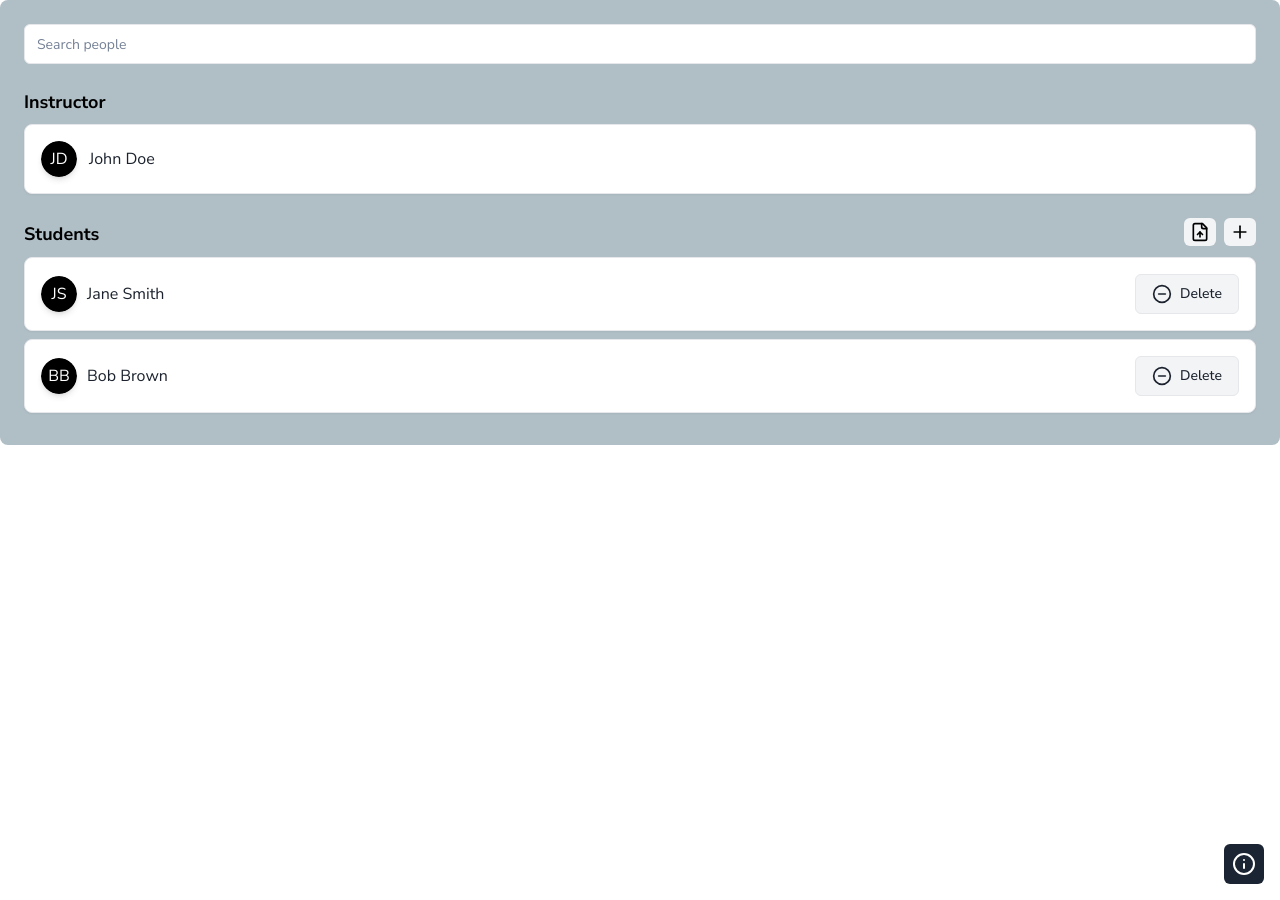
Test case: People component › removes a student from the class
Expected: the text "Jane Smith" is shown, [87,282,164,306]
Click the button with test id "remove-student-button-3" at (1187, 294), box [1135,274,1239,314]
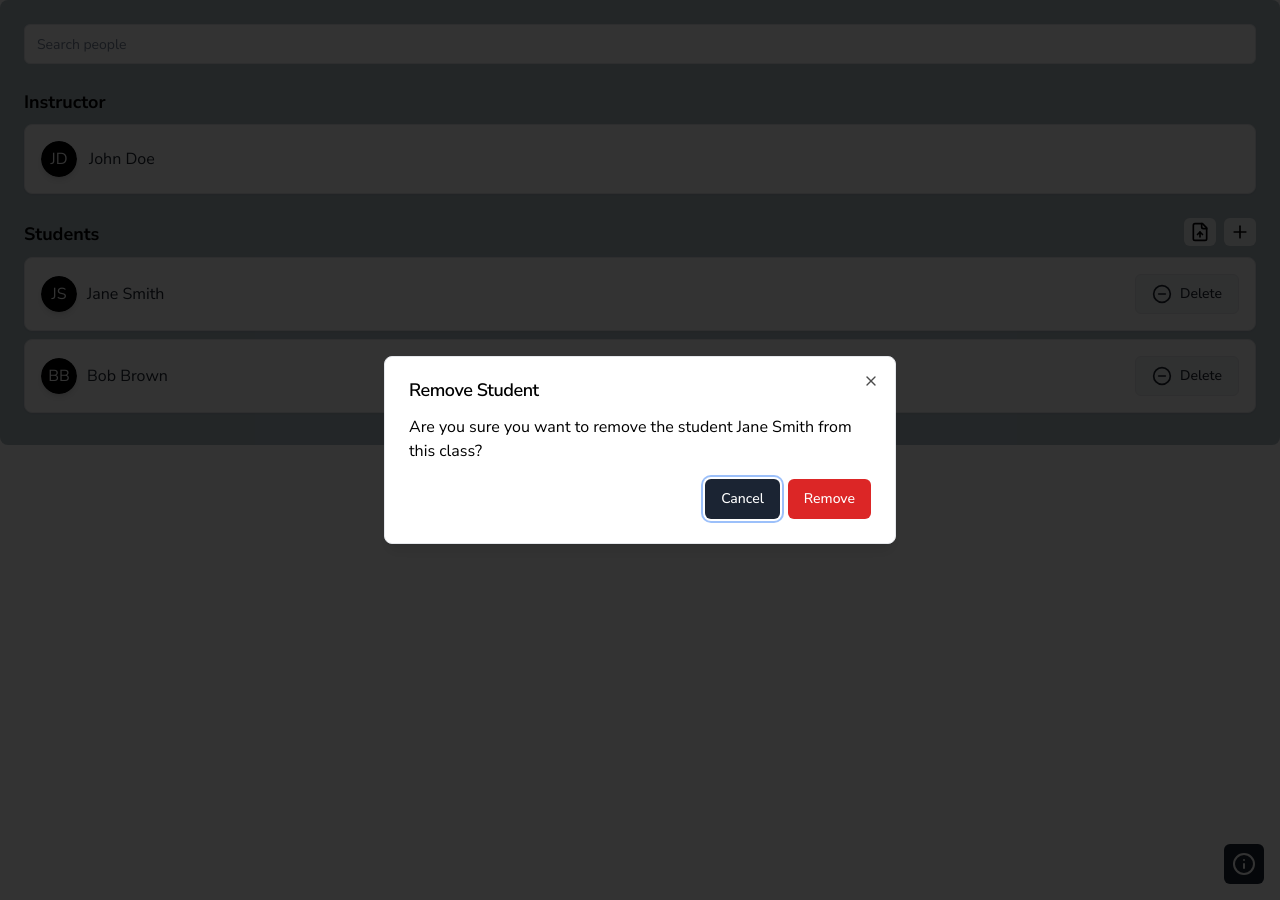
Now the heading "Remove Student" is shown, box [409,378,539,402]
Now the text "Are you sure you want to remove the student Jane Smith from this class?" is shown, box [384,356,896,544]
Click the button "Remove" at (829, 499), box [788,479,871,519]
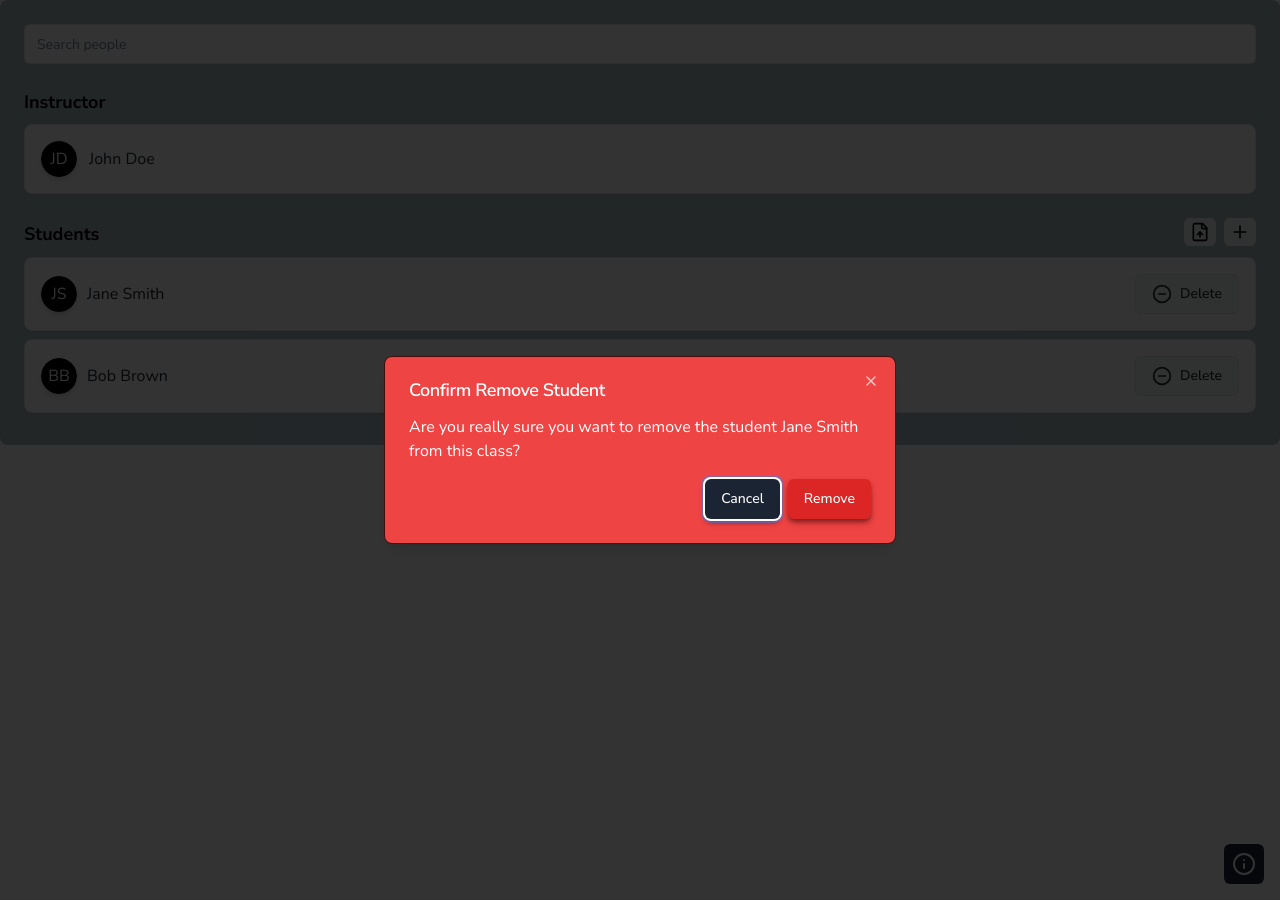
Now the heading "Confirm Remove Student" is shown, box [409,378,605,402]
Now the text "Are you really sure you want to remove the student Jane Smith from this class?" is shown, box [384,356,896,544]
Click the button "Remove" at (829, 499), box [788,479,871,519]
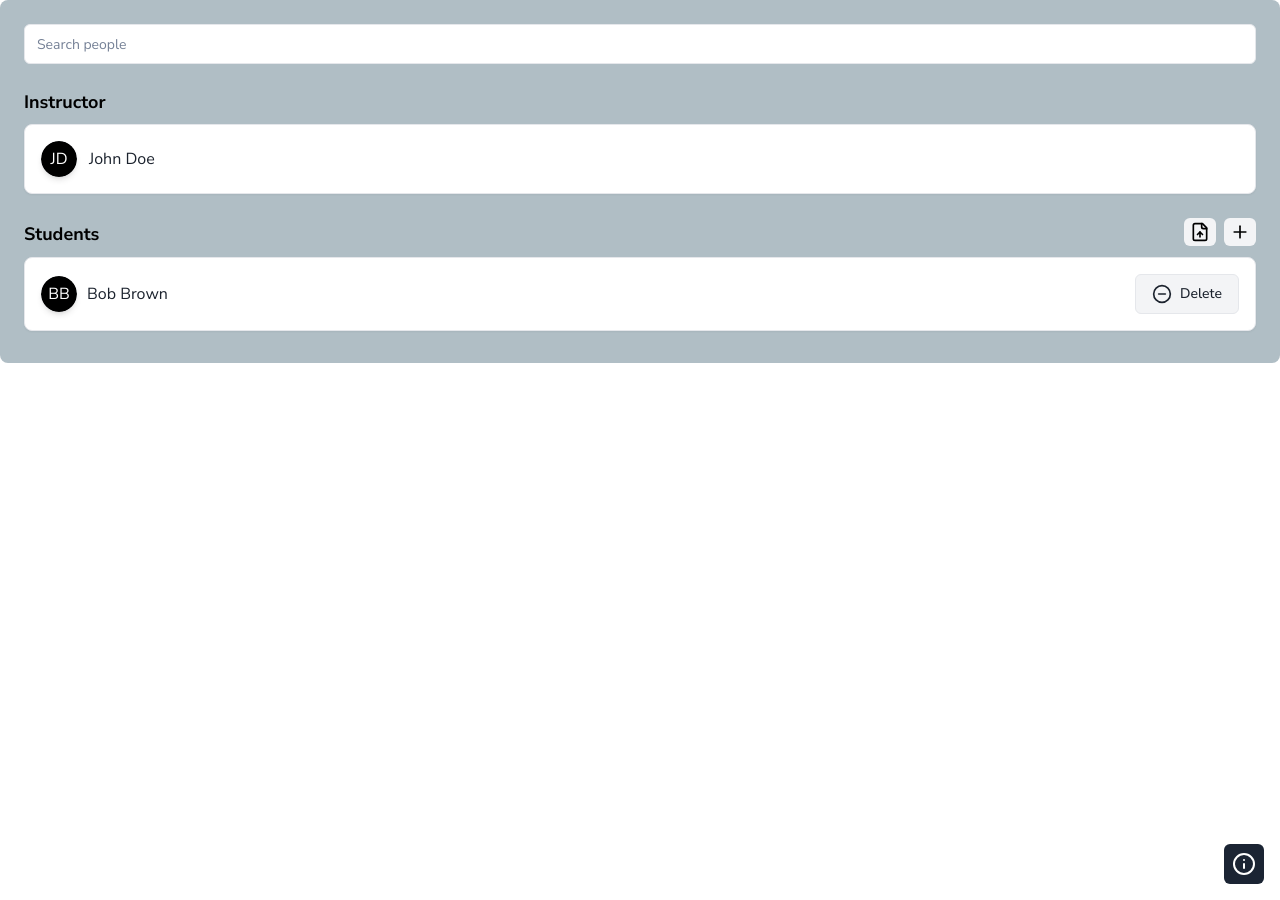
Now the text "Jane Smith" is gone
